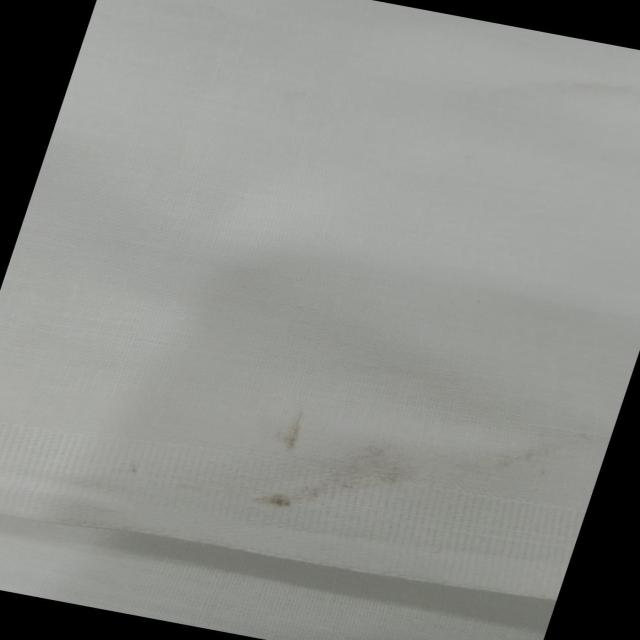stain: (245, 390, 437, 546), (484, 432, 574, 492)
